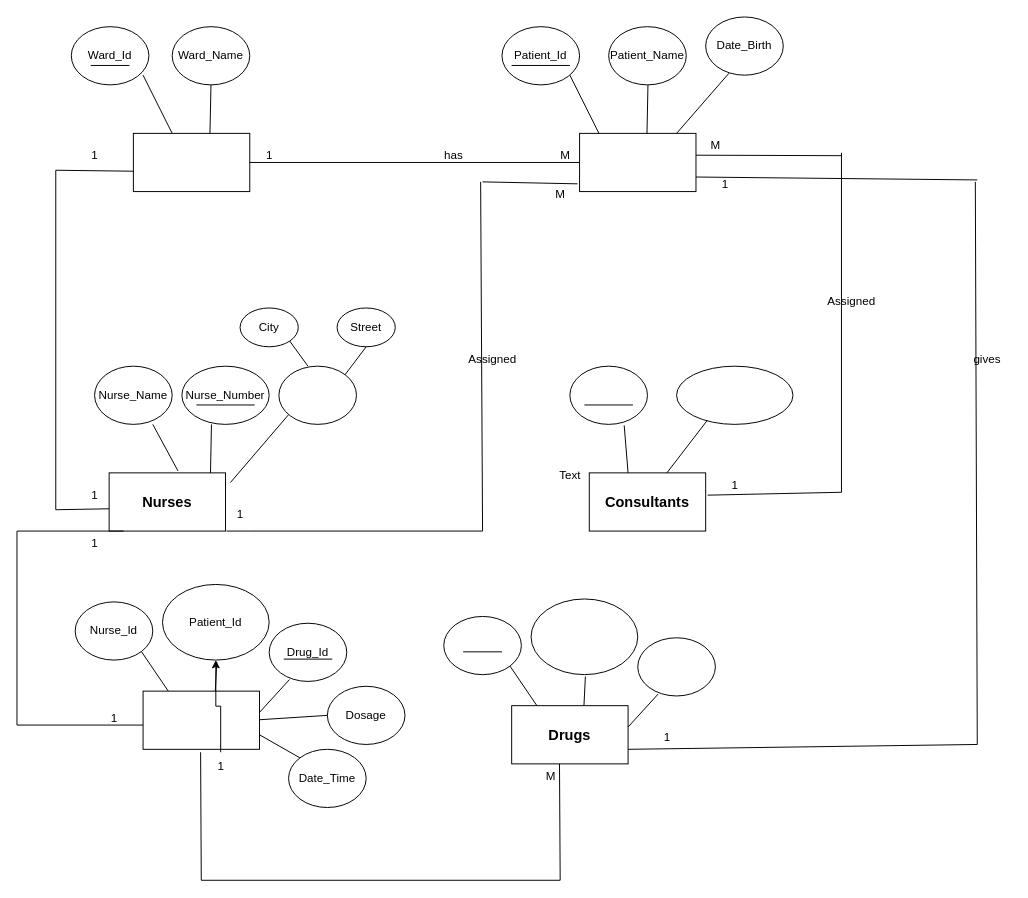
Some shapes in this 1028 by 898 pixel diagram are drawn without their labels. Each missing label, with the centre of its shape:
"Address" goes at point (317, 394).
"brand_name" goes at point (676, 666).
"code" goes at point (482, 645).
"Consultant_Id" goes at point (608, 394).
"Consultant_Name" goes at point (734, 394).
"Patients" goes at point (637, 162).
"recommand_dosage" goes at point (584, 636).
"Records" goes at point (200, 719).
"wards" goes at point (191, 162).
